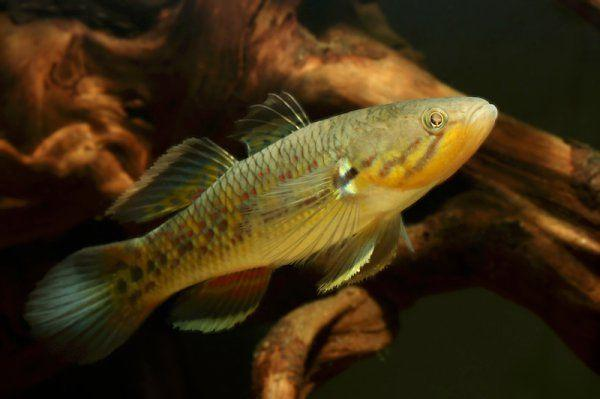Goby: (32, 87, 504, 368)
